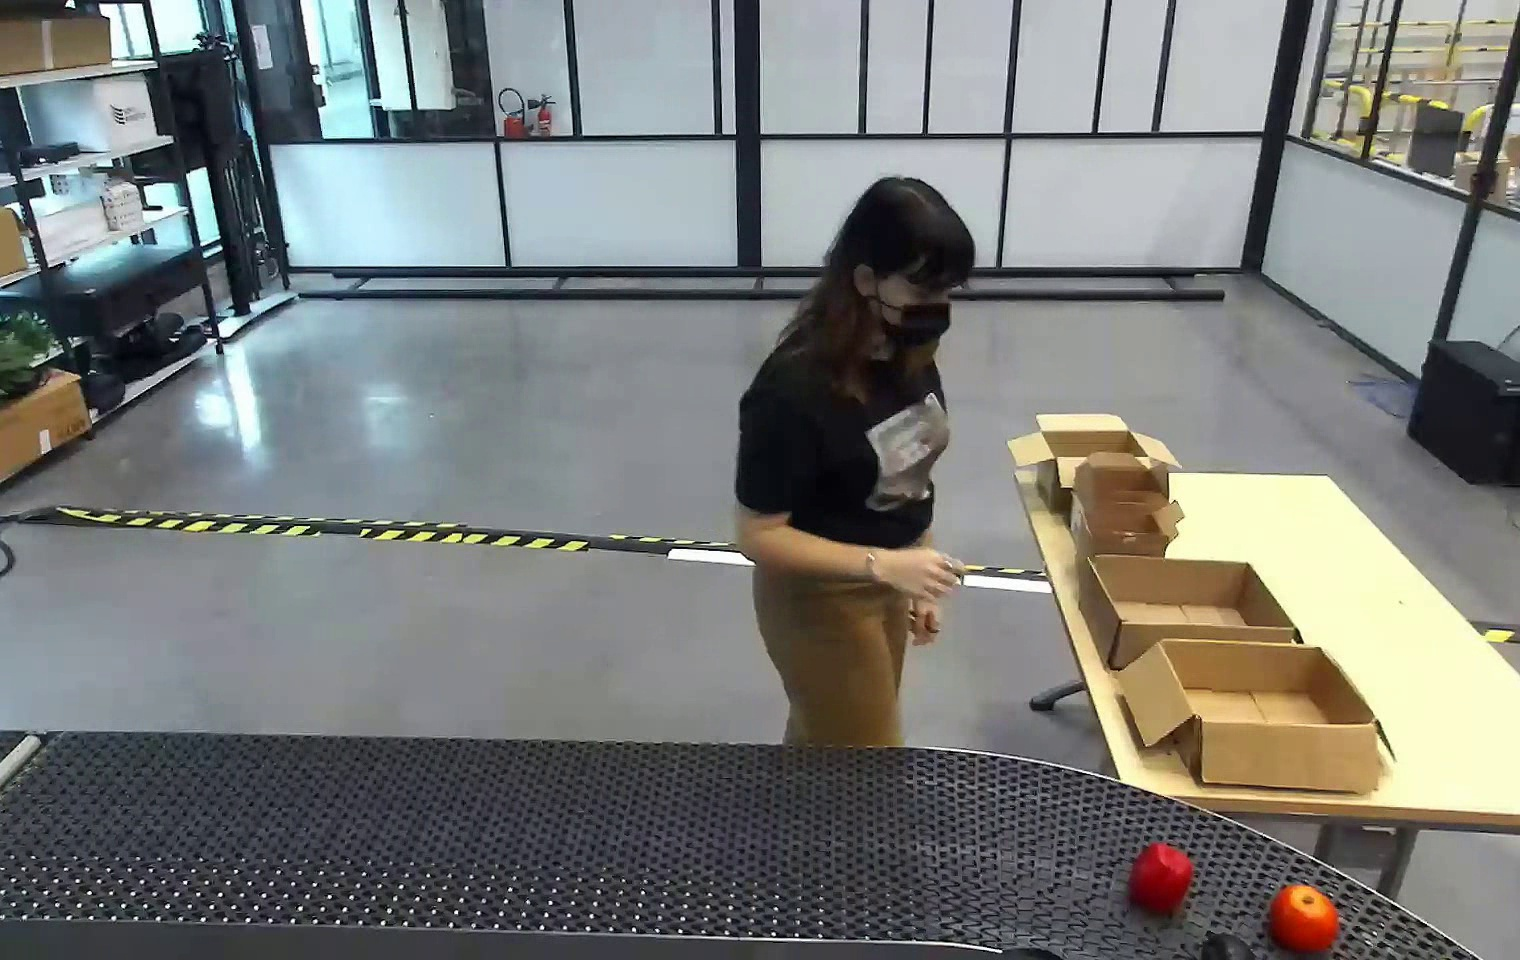Main droite: (884, 539, 974, 606)
